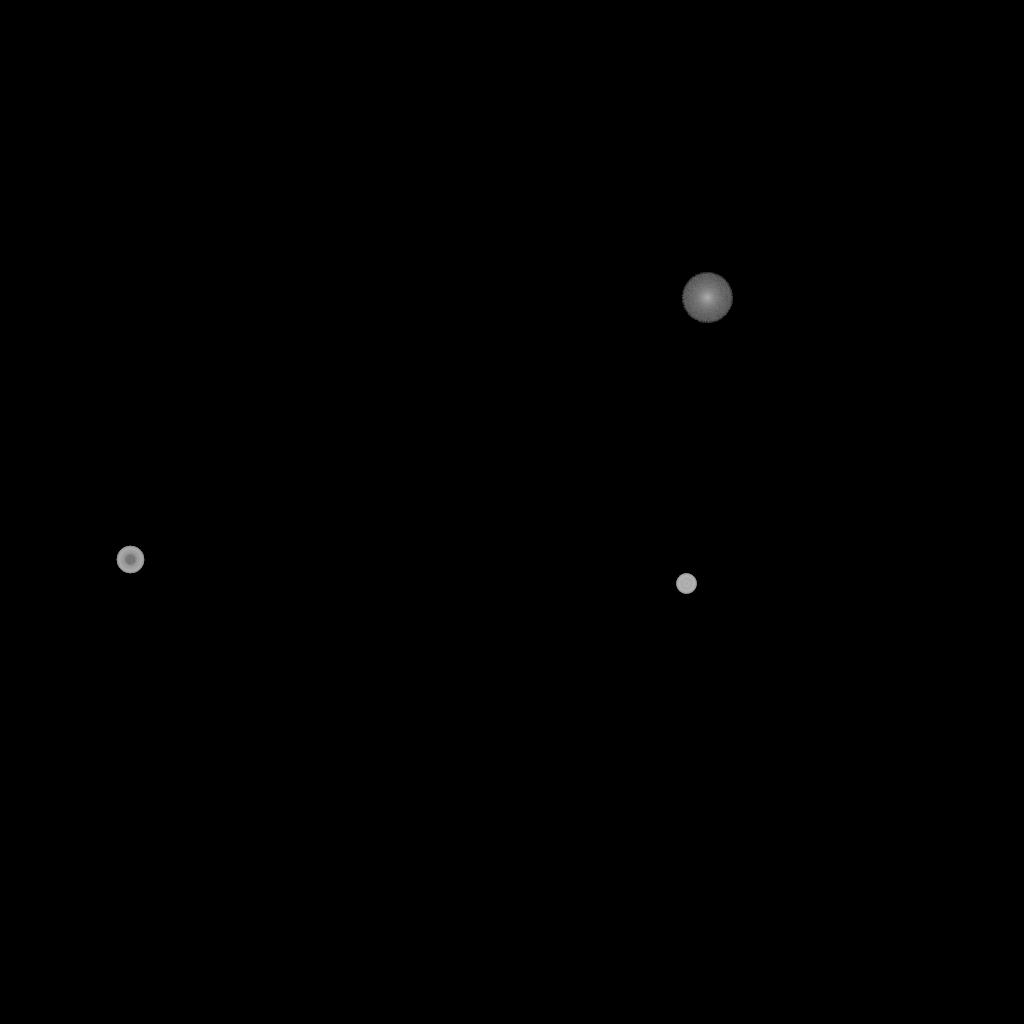depth:-40: (676, 574, 696, 594)
depth:-50: (116, 546, 144, 574)
depth:20: (681, 273, 733, 323)
